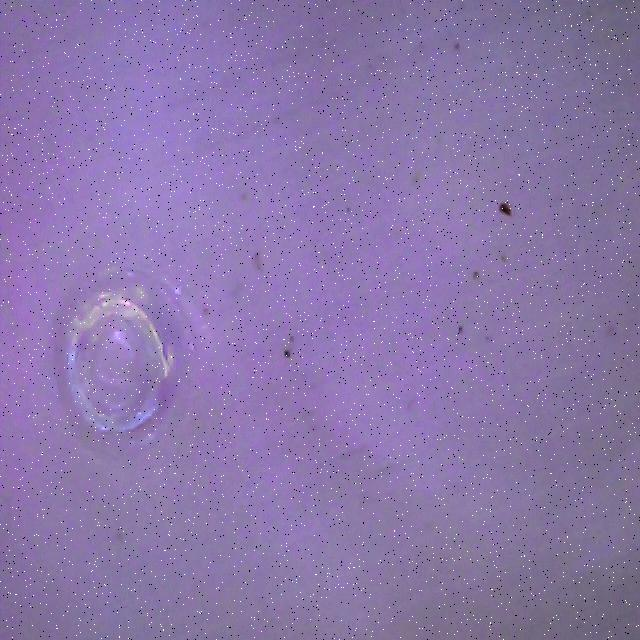beads: (12, 245, 228, 479)
